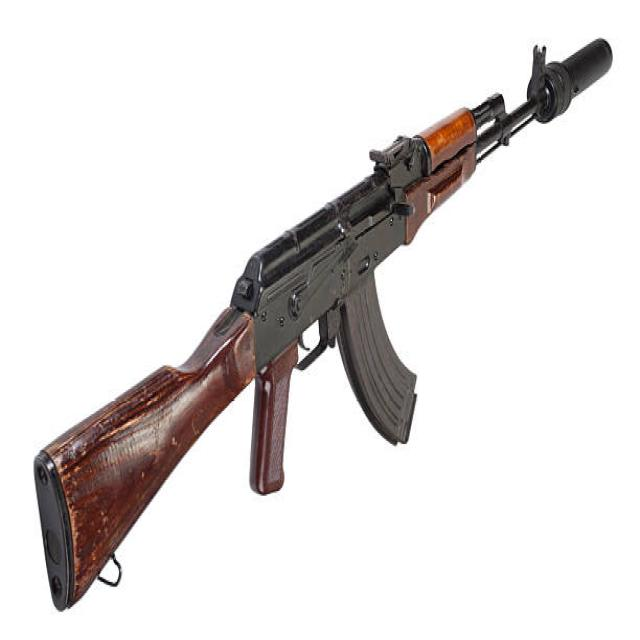rifle: (32, 29, 619, 621)
